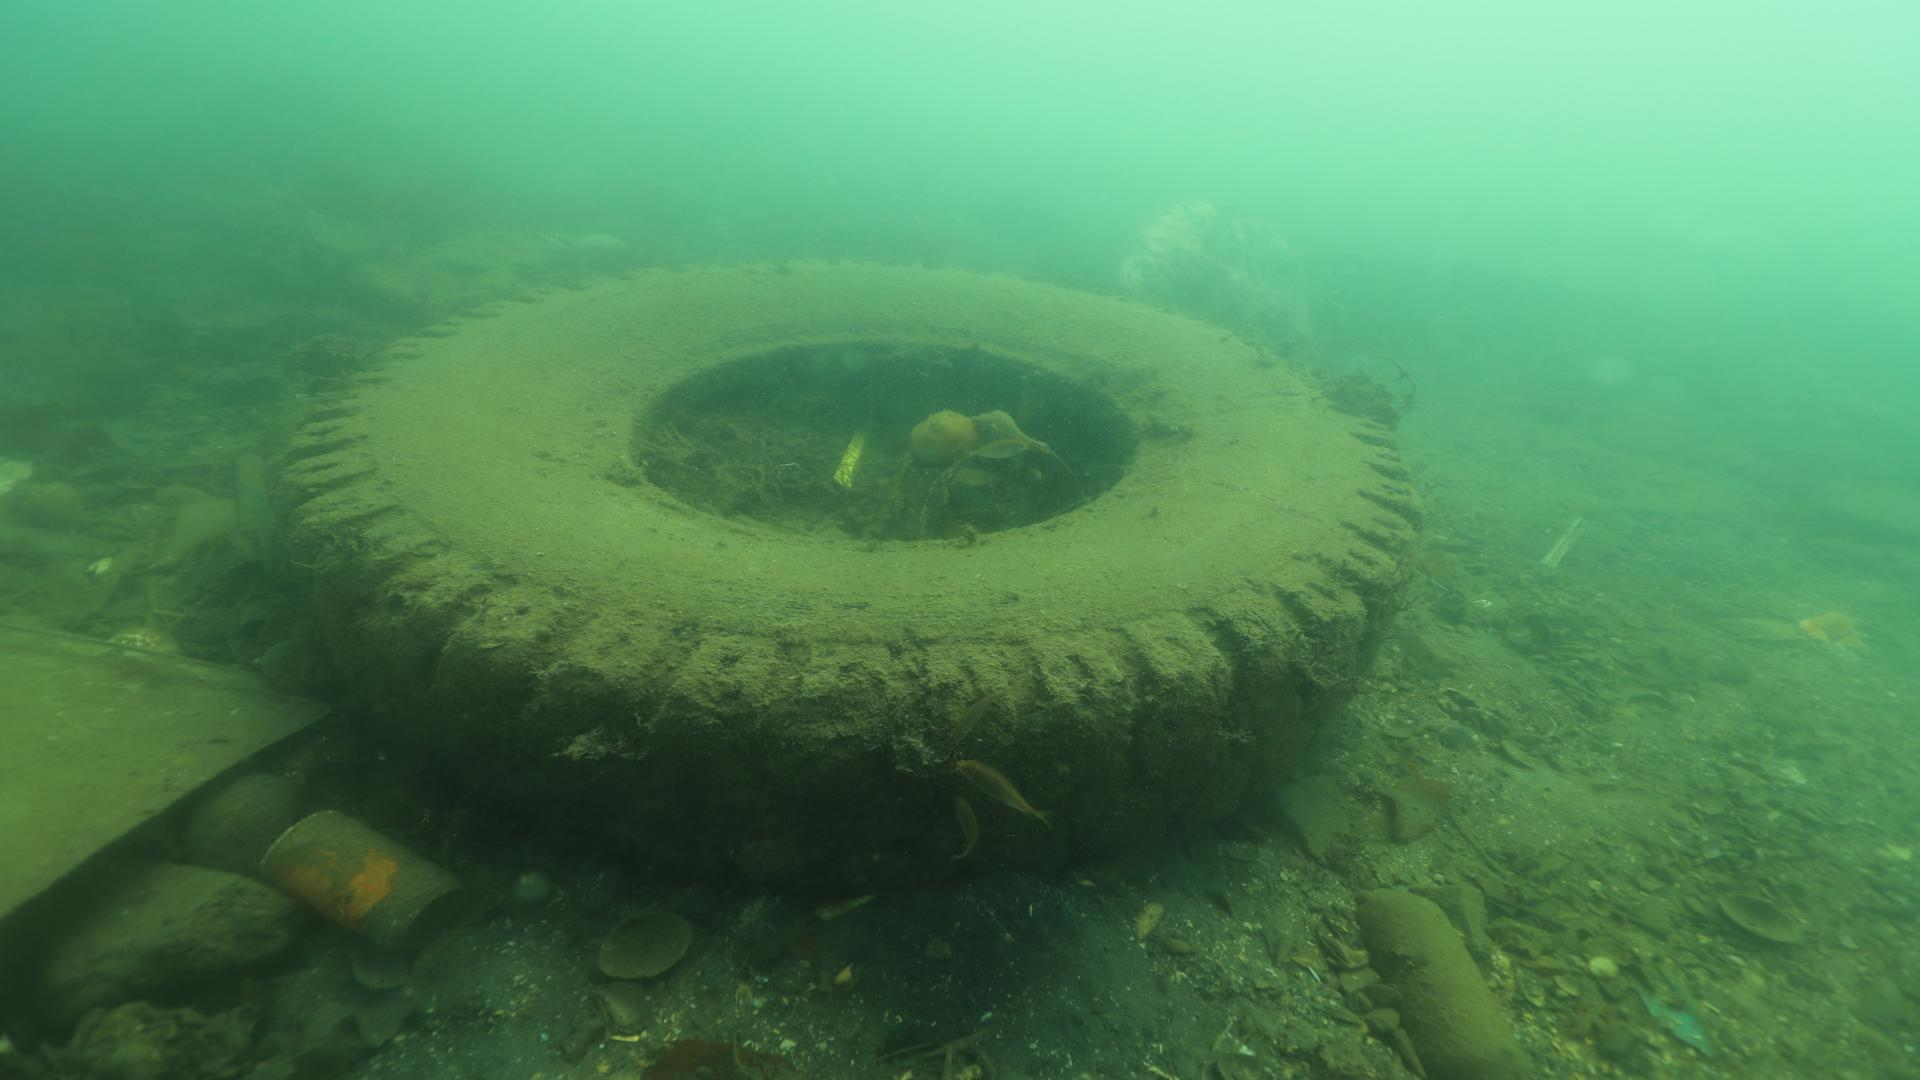tire: (280, 251, 1429, 877)
